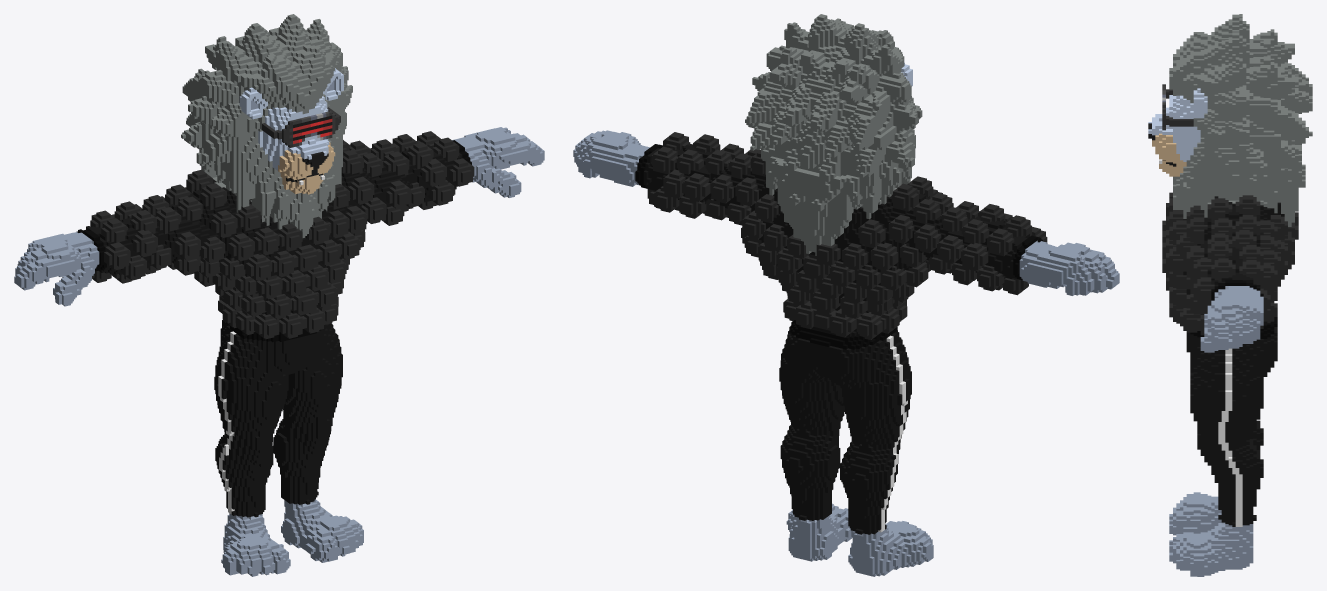
3 views of the same model, side by side, from view 1: azimuth 30°, elevation 25°; view 2: azimuth 150°, elevation 25°; view 3: azimuth 270°, elevation 25° (orthographic). The views are drawn at different scales.
Visible parts, largest first — view 1: standard; view 2: standard; view 3: standard.
Part boxes in pixels (<box>): standard: <box>14,14,544,576</box>; standard: <box>573,14,1119,576</box>; standard: <box>1148,14,1312,576</box>.
Size of the model in its own units: 17.2 by 16.5 by 4.7.
Materials: 5 (5 with a texture image).
